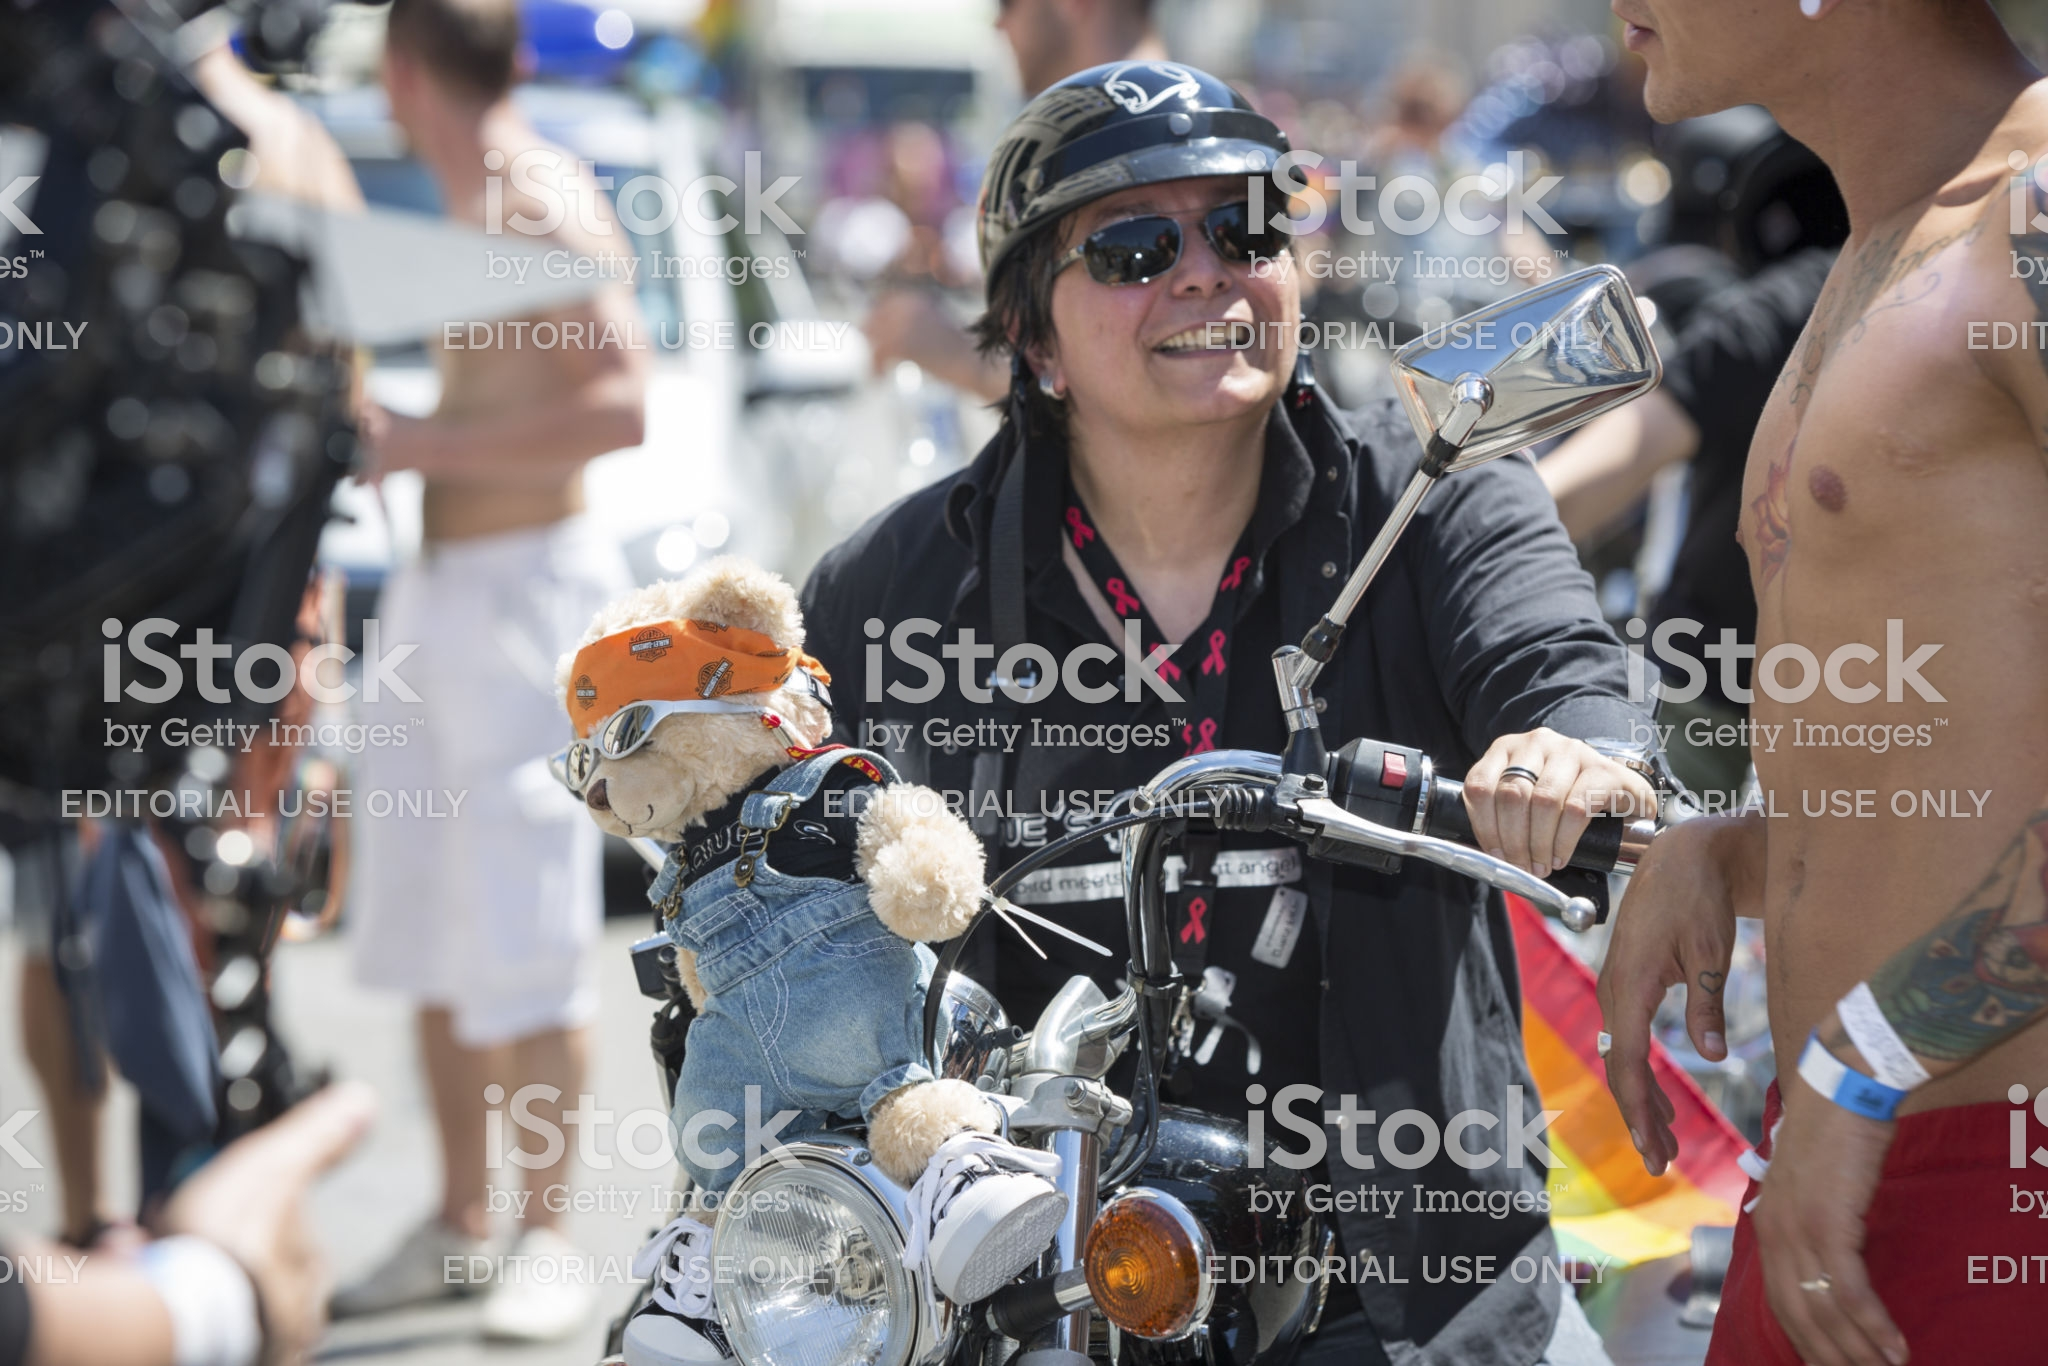helmet: (969, 40, 1314, 226)
